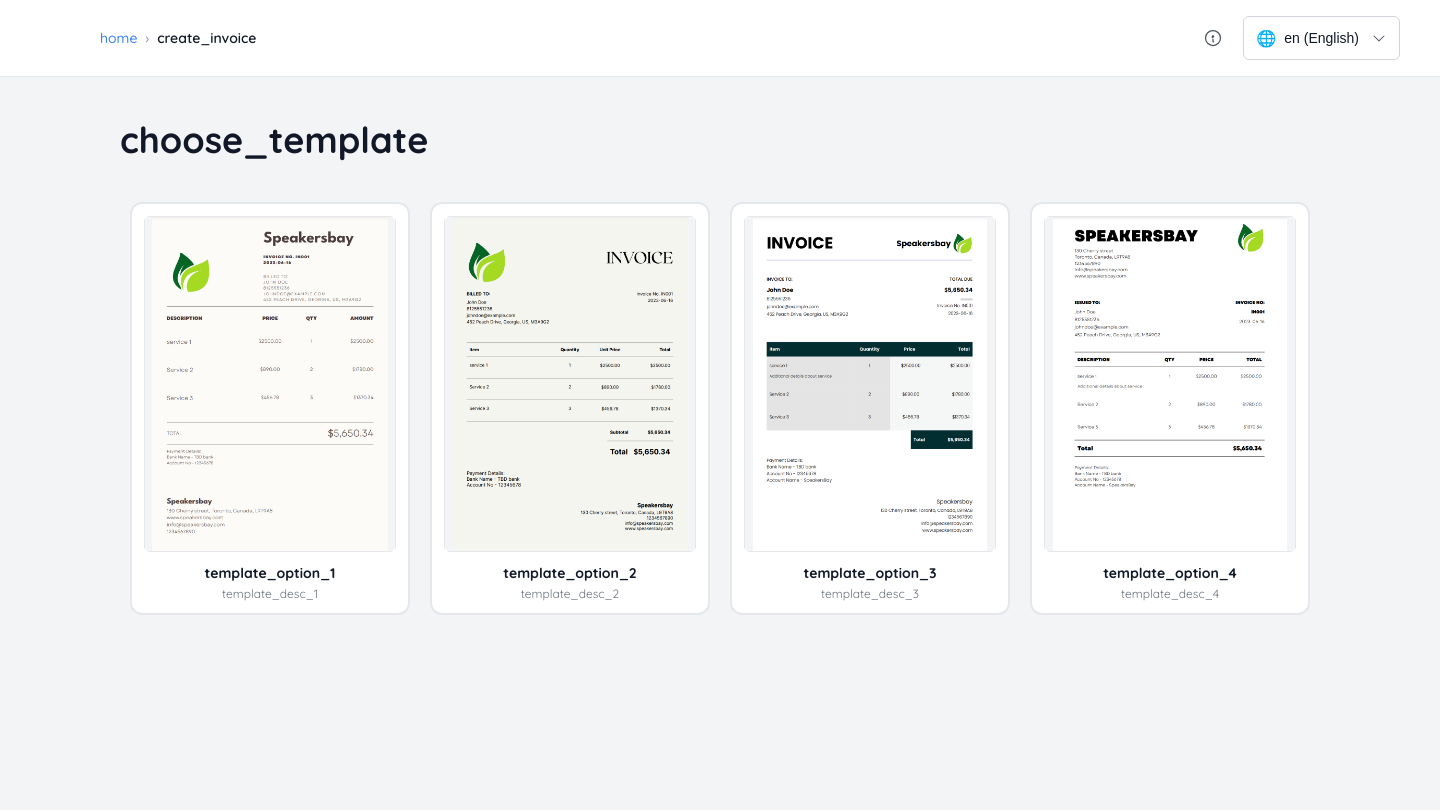
Test: Templates Page › handles clearing saved data
Click the radio button labelled "template_option_1 template_desc_1" at (270, 216), box [144,216,396,601]
(page scrolled)
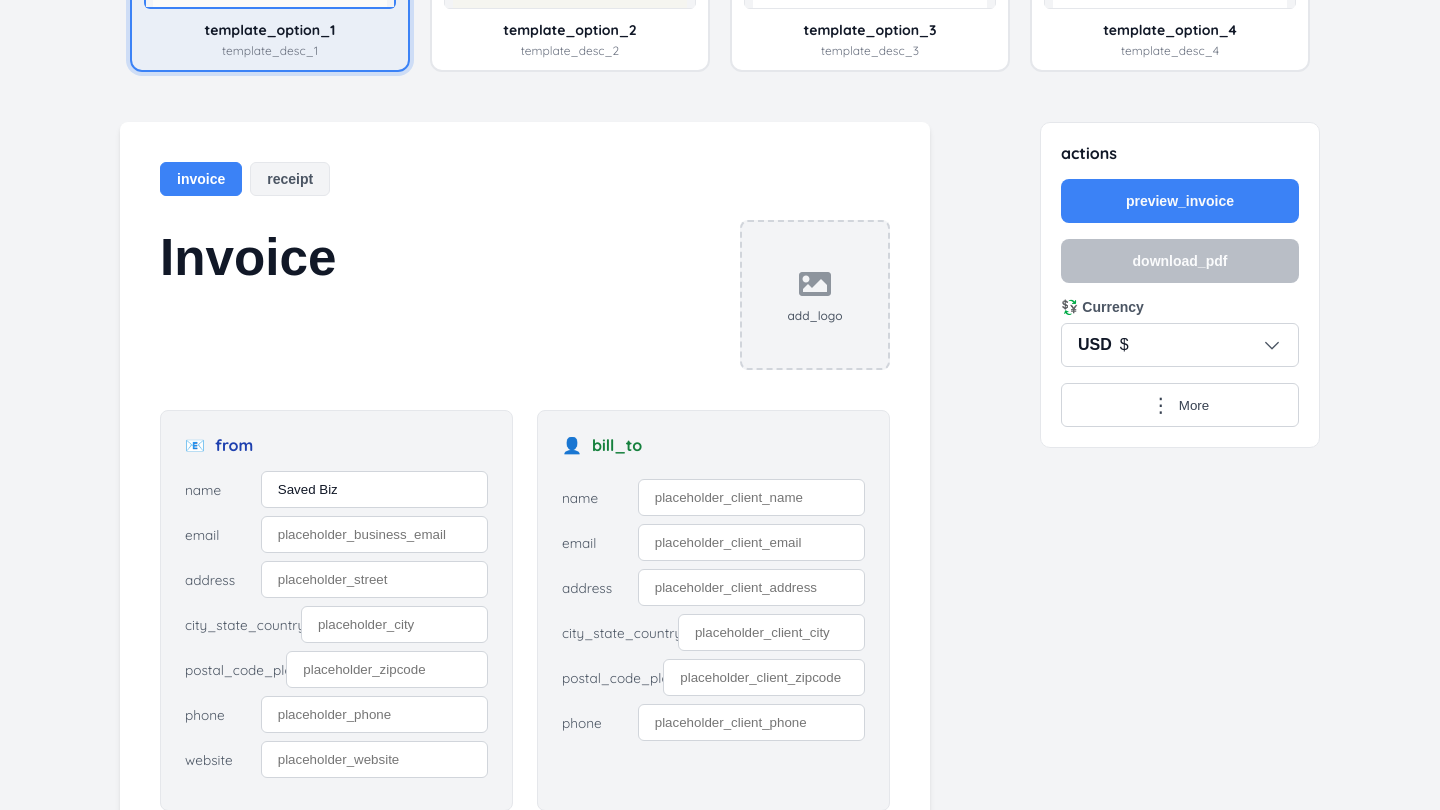
Expected: the field showing "Saved Biz" below "from" is shown, [261,471,488,508]
Click the text "More" at (1194, 405), box [1179,398,1209,412]
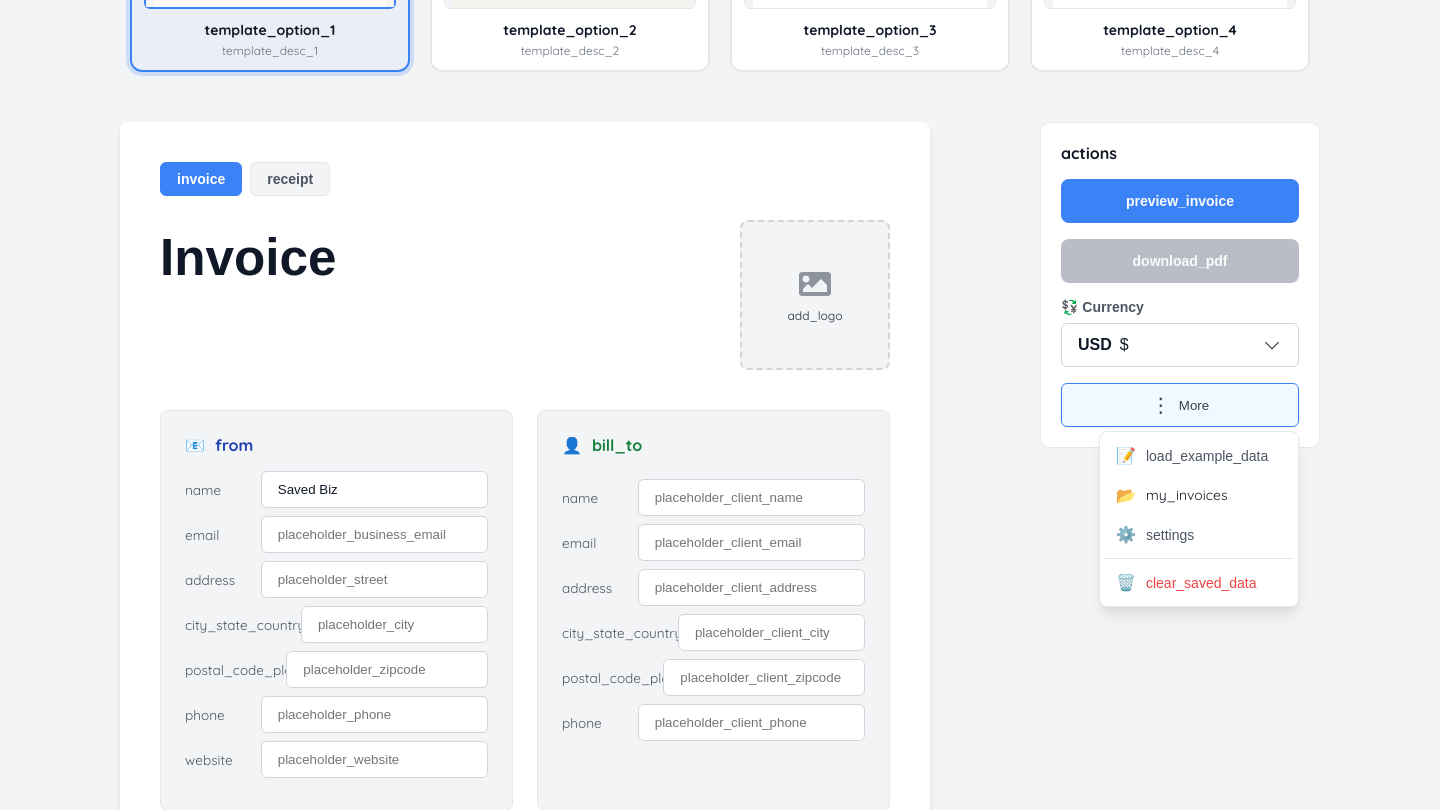
Click the menu item "🗑️ clear_saved_data" at (1199, 582), box [1104,563,1294,602]
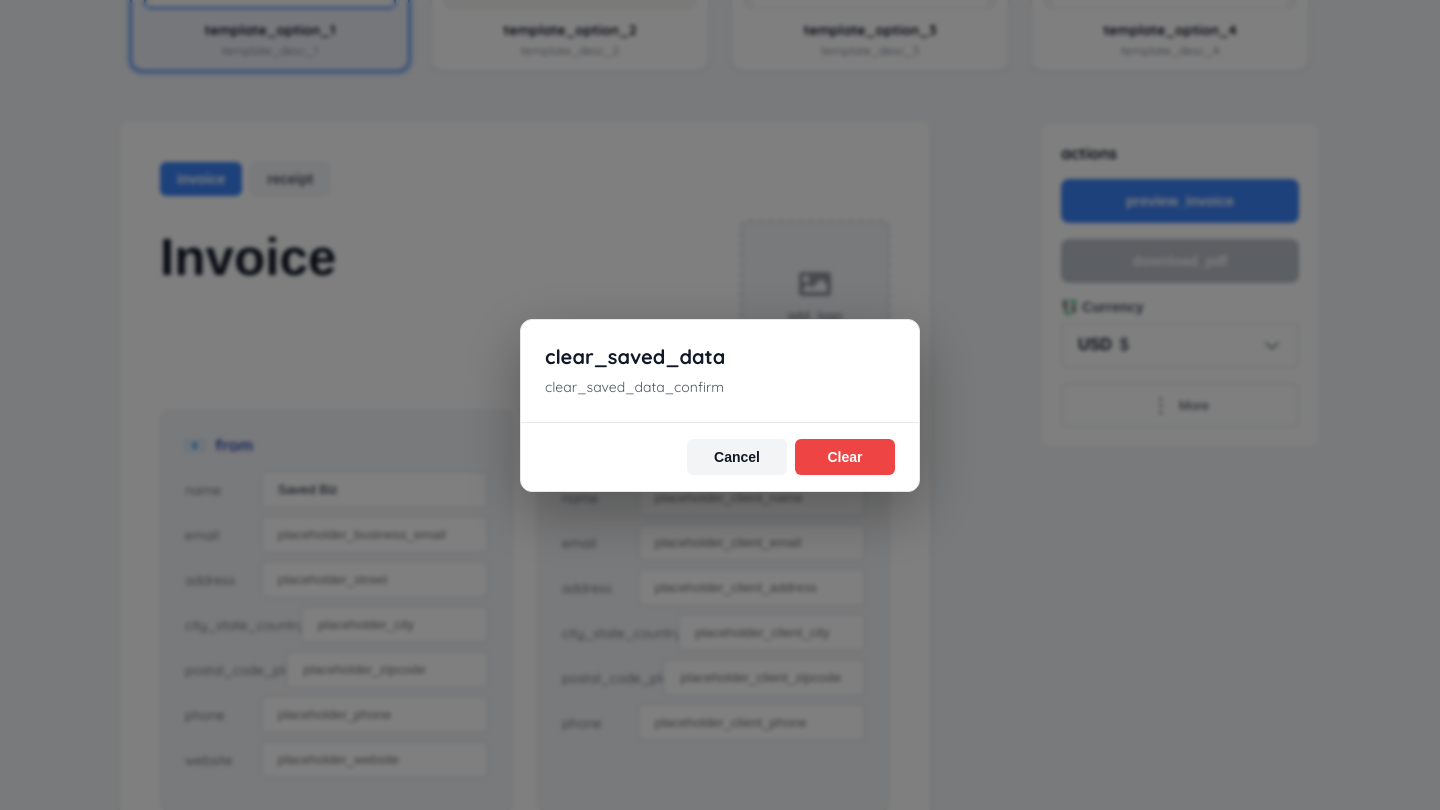
# Confirm in dialog
Click the button "Clear" at (845, 456), box [795,438,895,474]
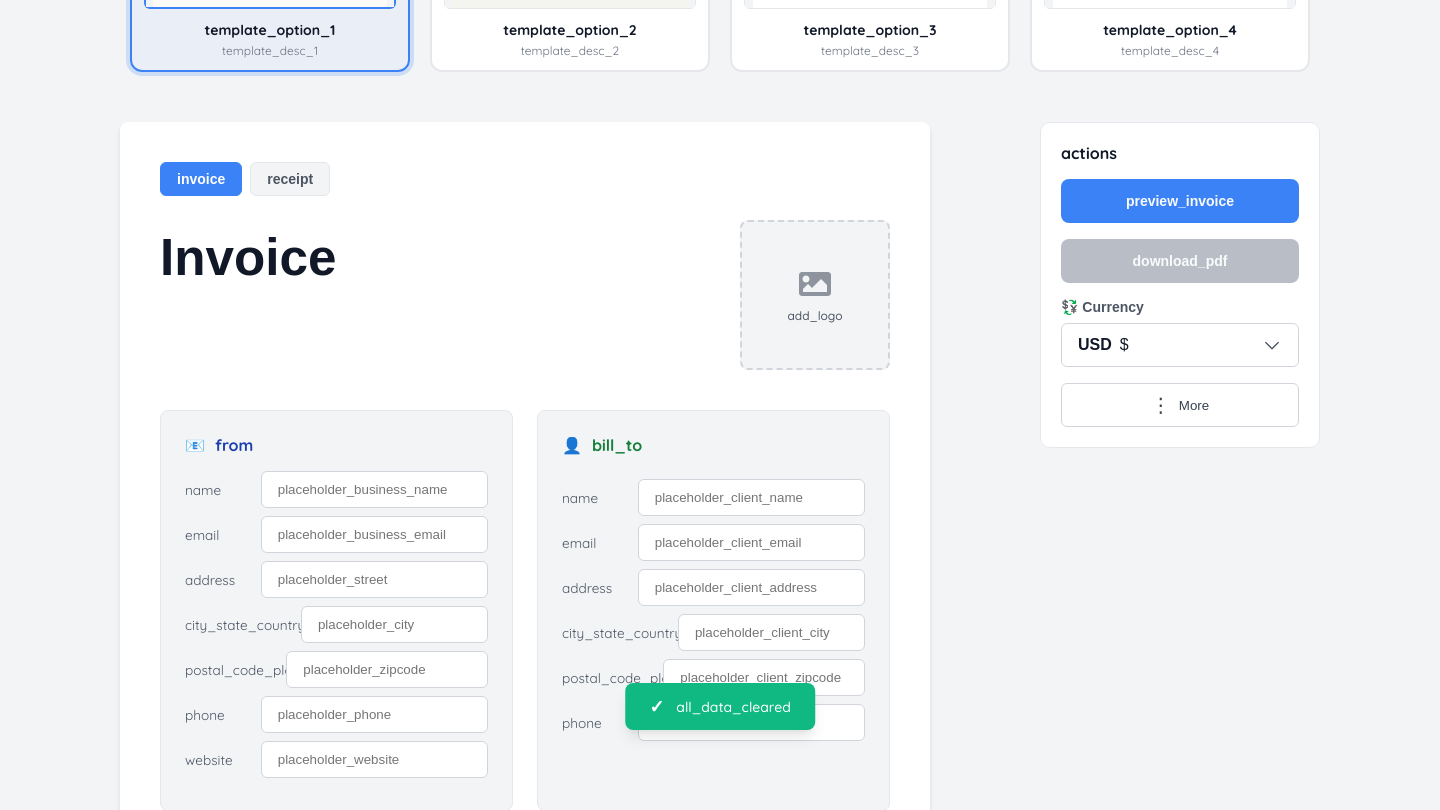
Expected: the field showing "Saved Biz" below "from" is empty, [261,471,488,508]
